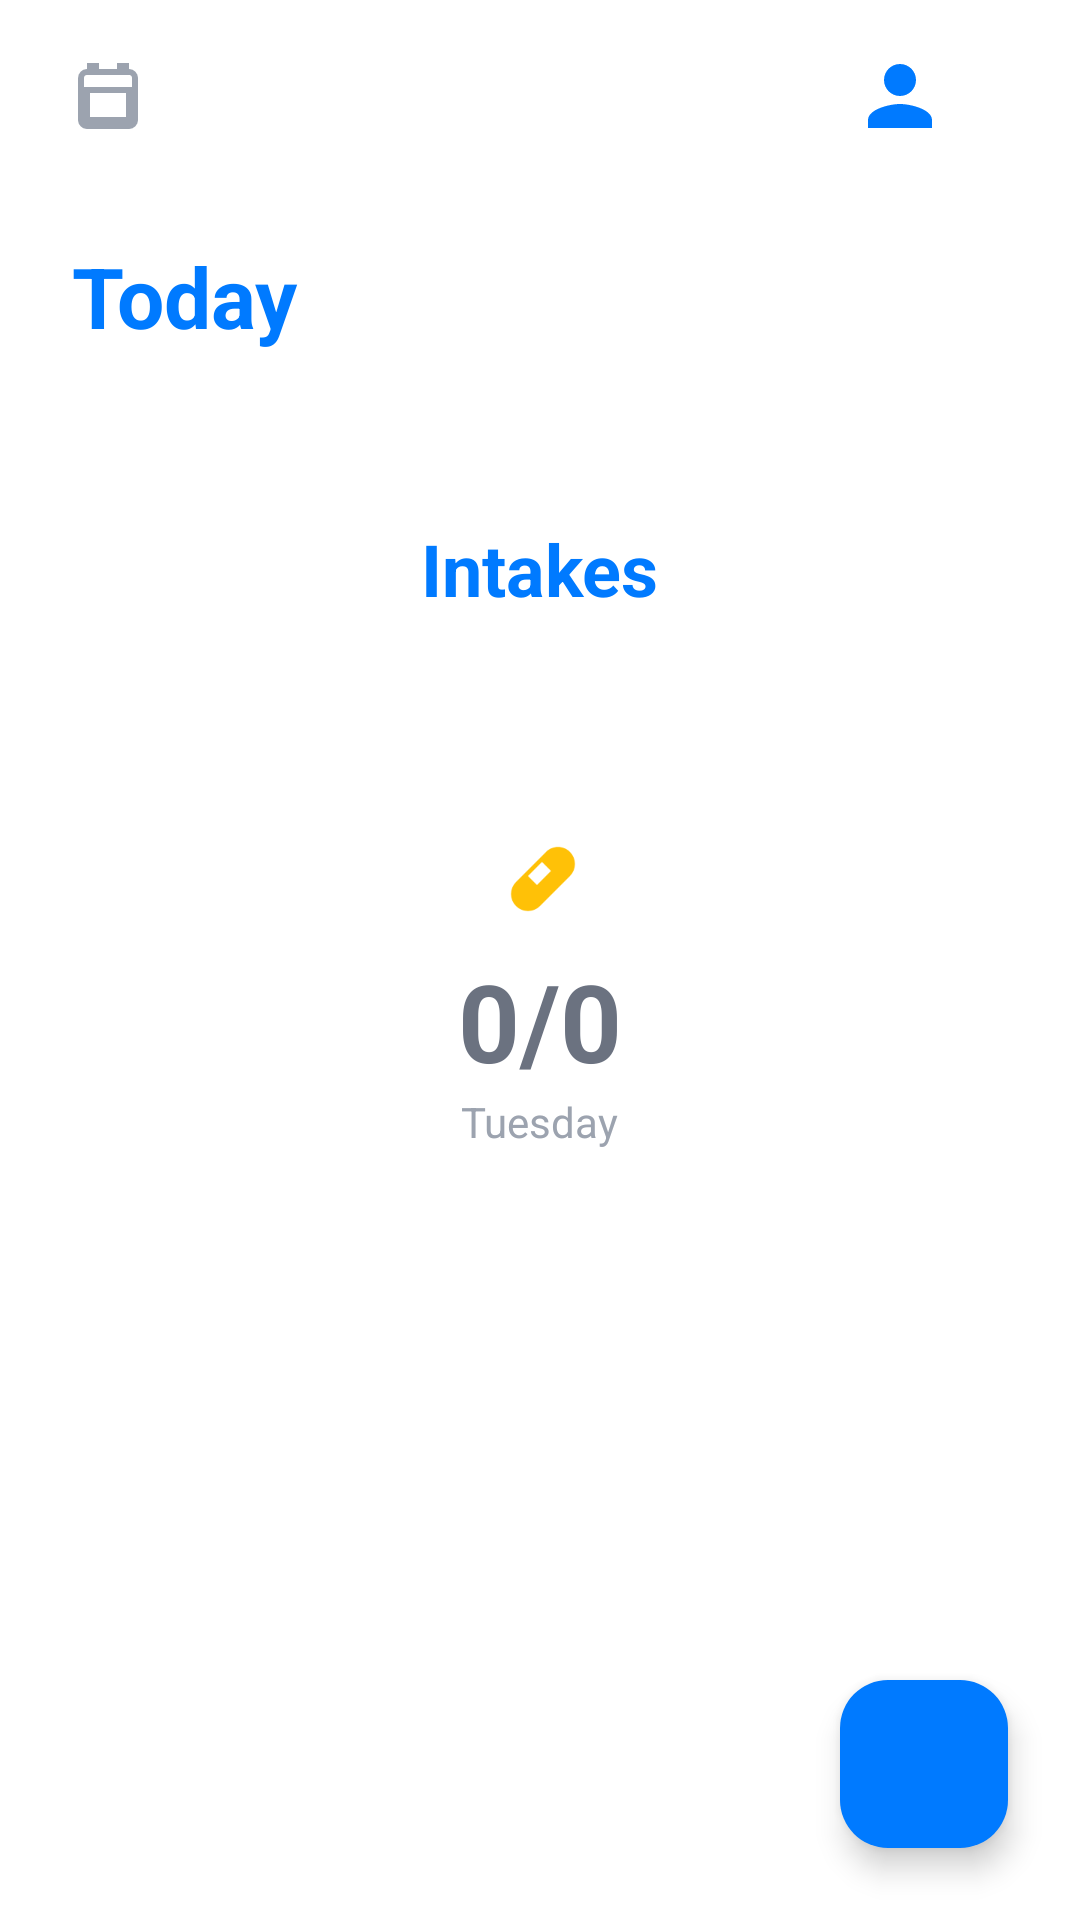

Icons on this 1080*1920 Android screen, each with its box as (x1, y1, x2, y2):
calendar top: (78, 63, 138, 129)
medicine: (511, 846, 575, 912)
profile: (868, 64, 932, 128)
